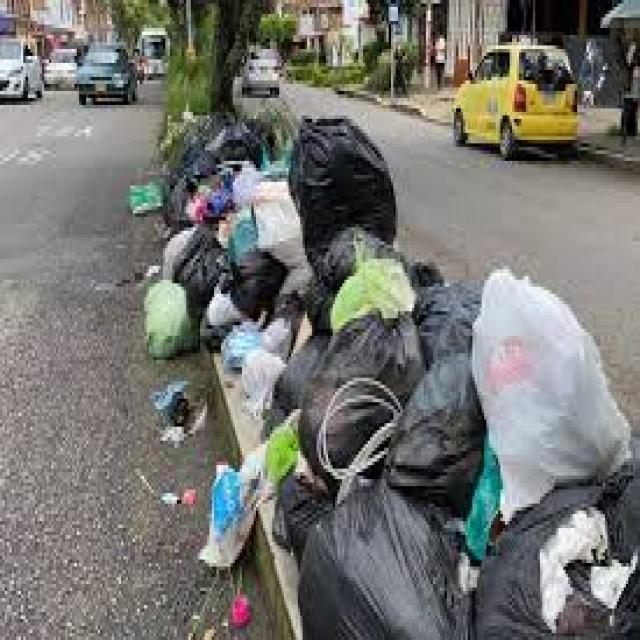garbage: (128, 125, 640, 640)
